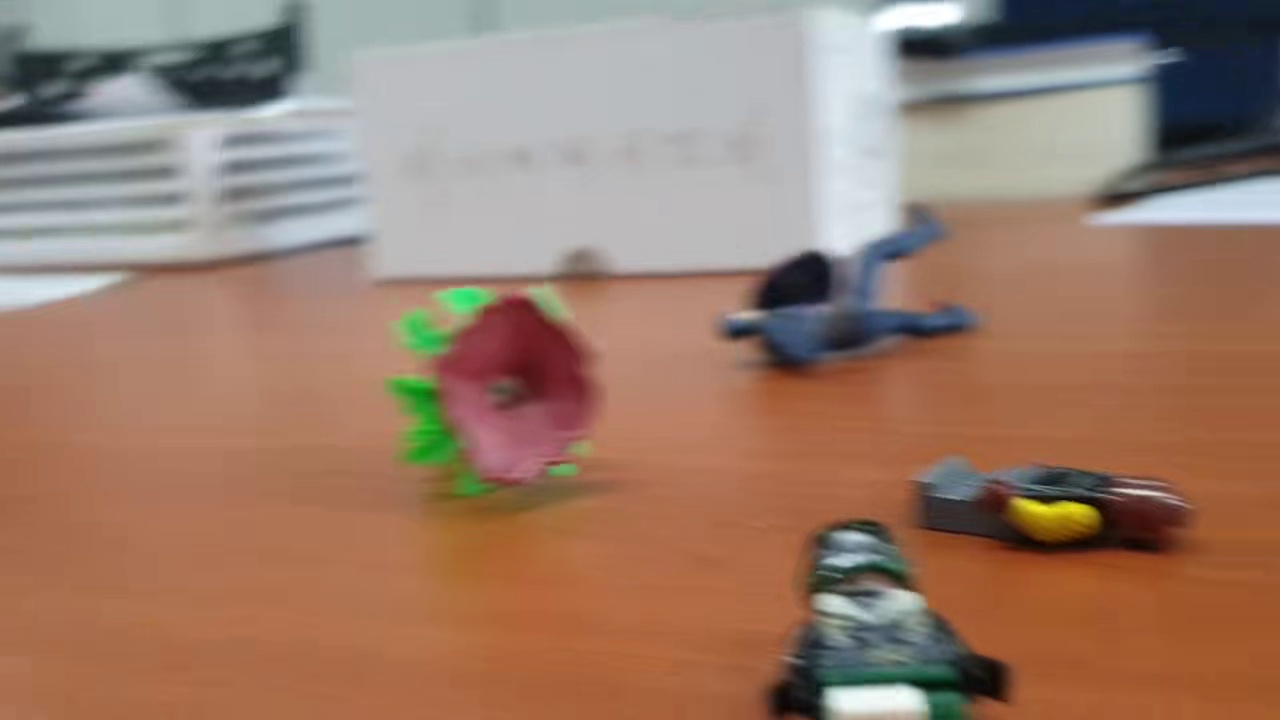people: (756, 519, 1017, 720), (715, 199, 981, 374), (902, 454, 1198, 556)
tree: (386, 278, 606, 506)
